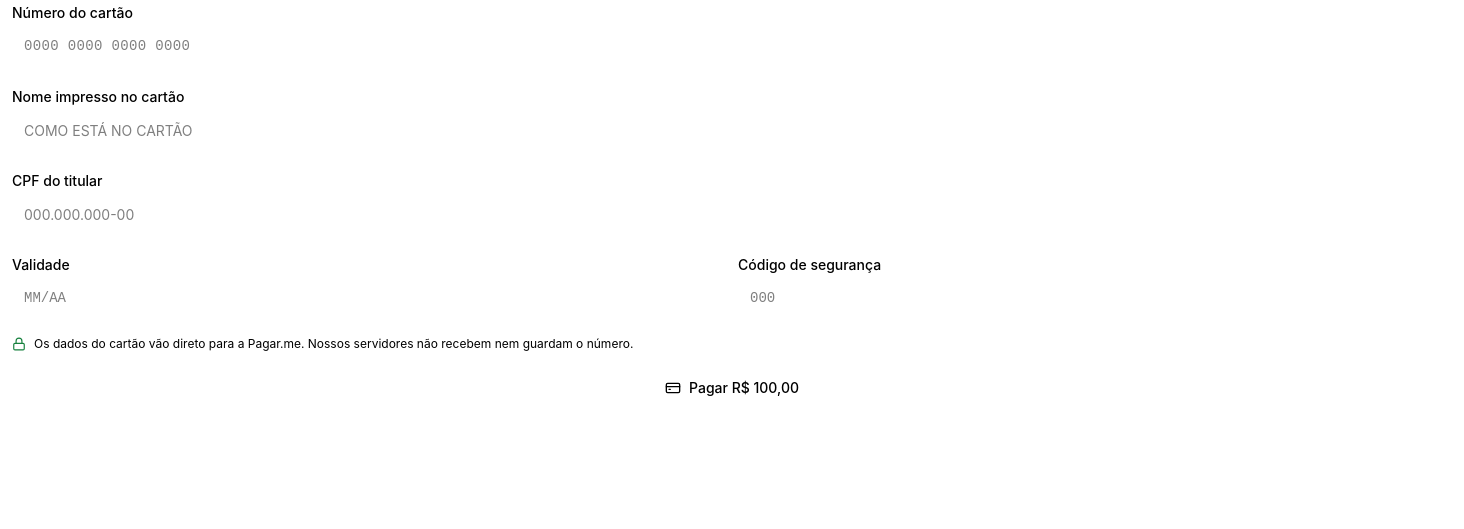
Test: PagarmeCardForm exit report › still offers PIX after a real refusal
The image size is (1464, 529).
Check: the button "Pagar R$ 100,00" is enabled, box [12,368,1452,408]
Step 1. Type "4000 0000 0000 0010" into the field labelled "Número do cartão" → (732, 46), box [12,24,1452,68]
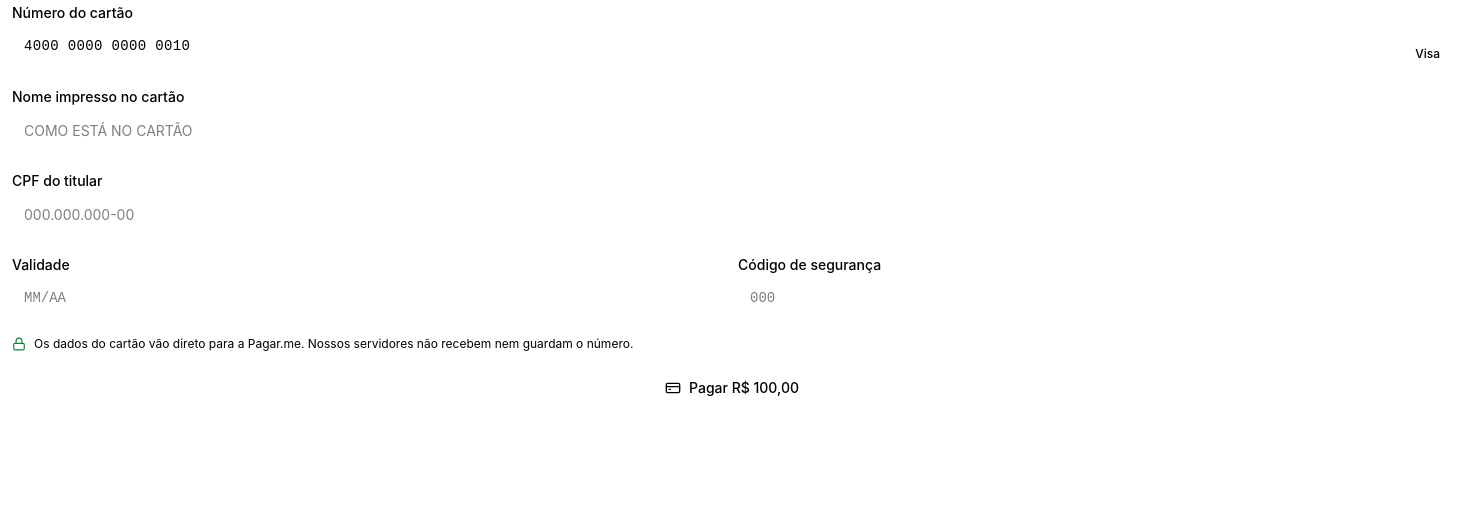
Step 2. Type "MARIA DA SILVA" into the field labelled "Nome impresso no cartão" → (732, 130), box [12,108,1452,152]
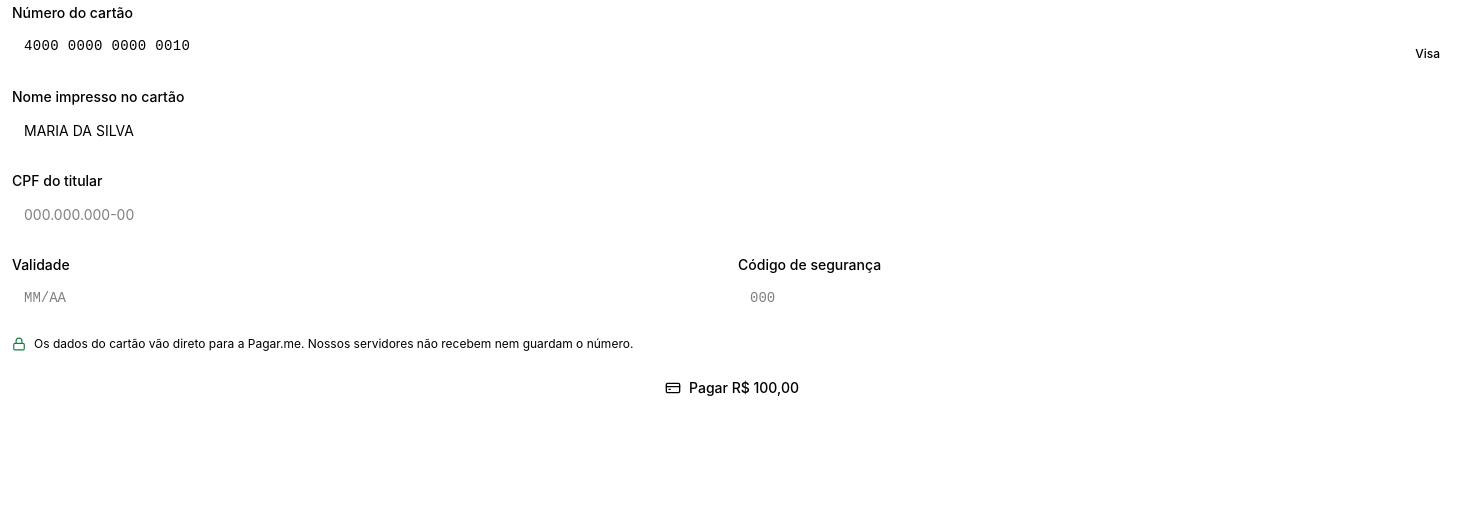
Step 3. Type "52998224725" into the field labelled "CPF do titular" → (732, 214), box [12,192,1452,236]
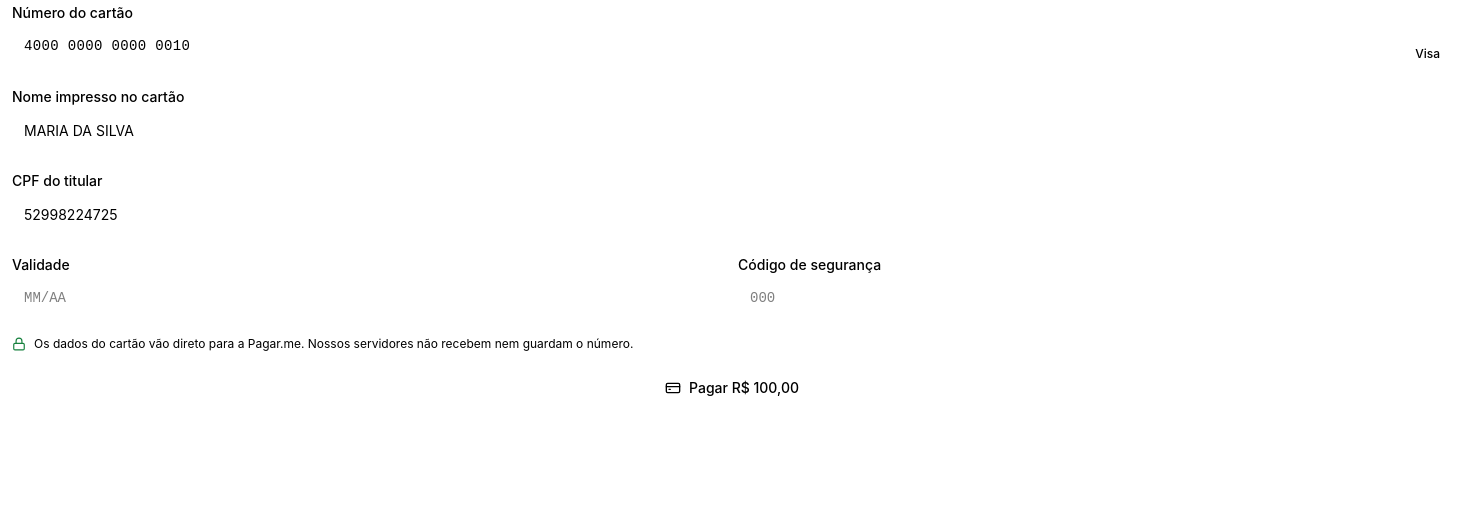
Step 4. Type "12/30" into the field labelled "Validade" → (369, 298), box [12,276,726,320]
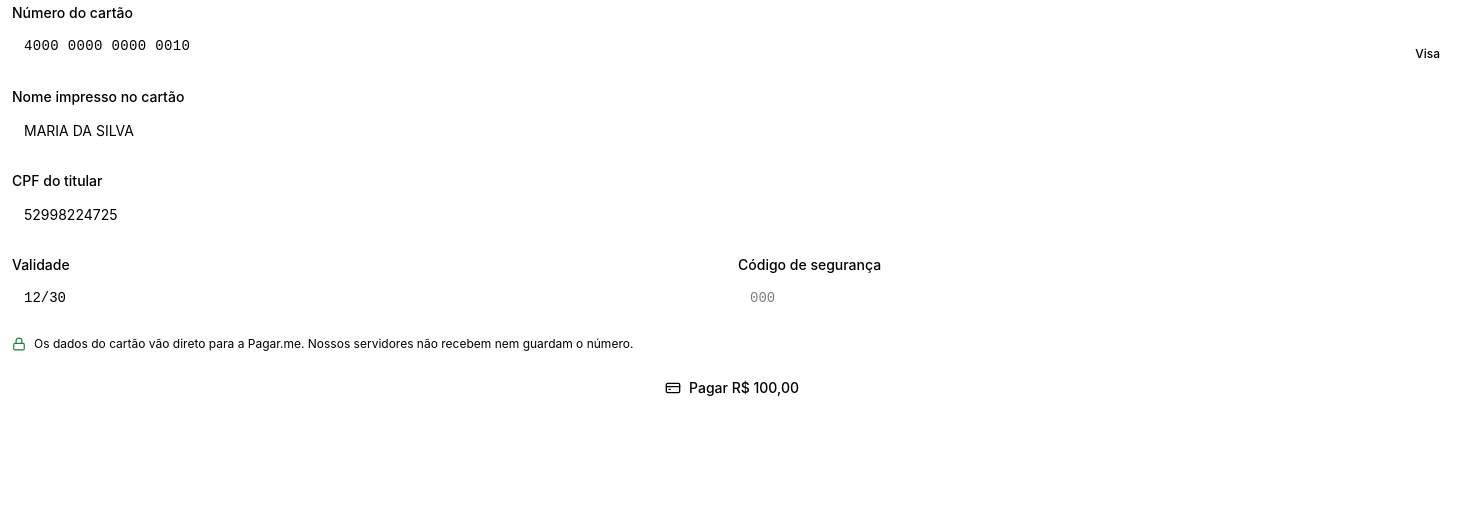
Step 5. Type "123" into the field labelled "Código de segurança" → (1095, 298), box [738,276,1452,320]
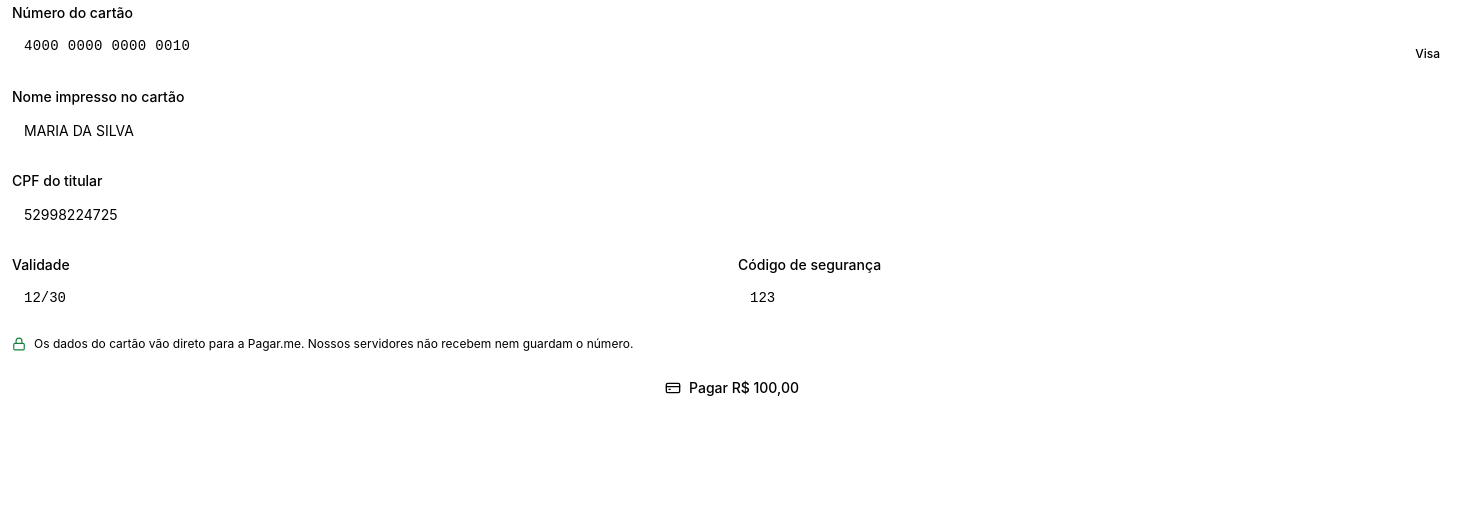
Step 6. Click the button "Pagar R$ 100,00" → (732, 388), box [12,368,1452,408]
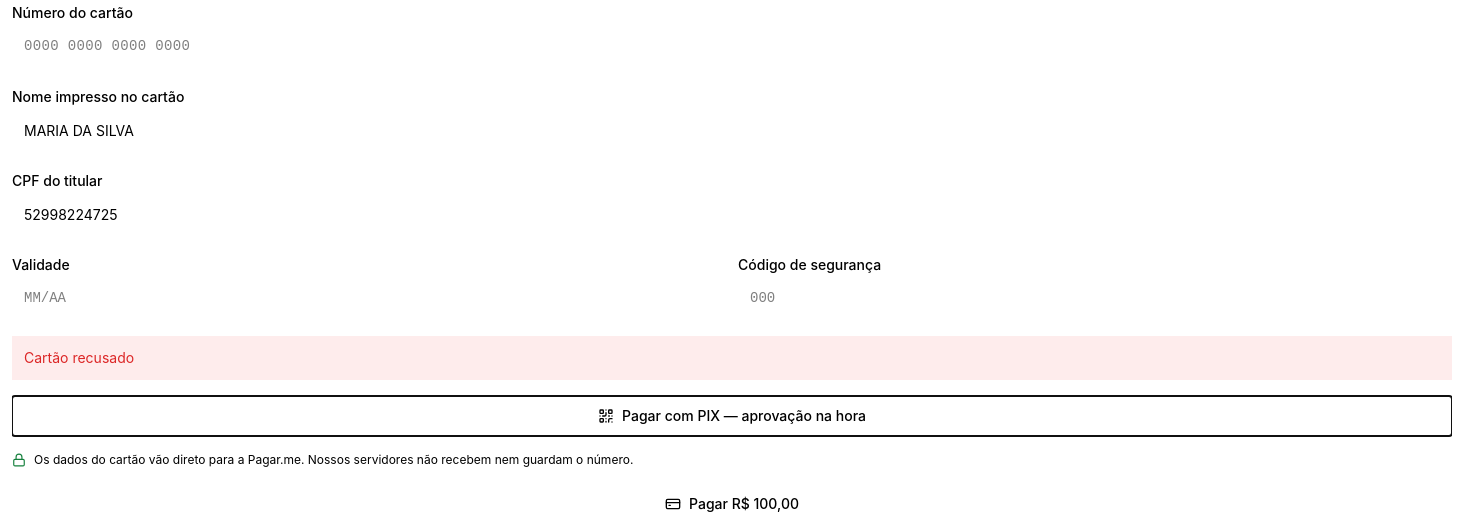
Check: the button "Pagar com PIX — aprovação na hora" is shown, box [12,396,1452,436]
